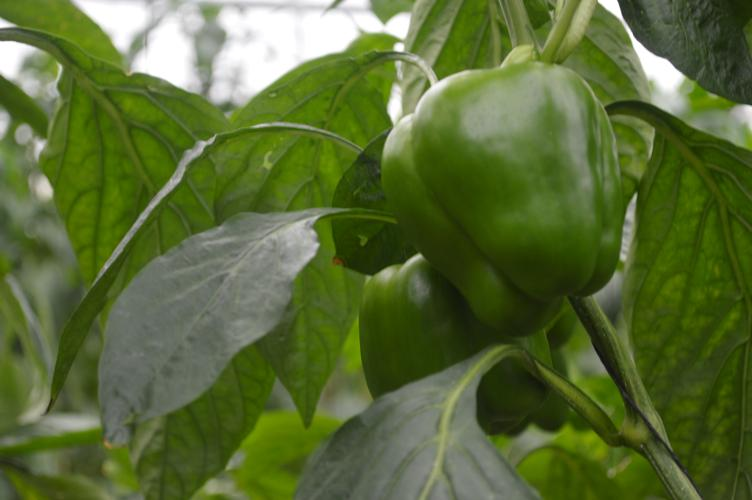BellPepper: (376, 39, 635, 344), (332, 252, 552, 439)
